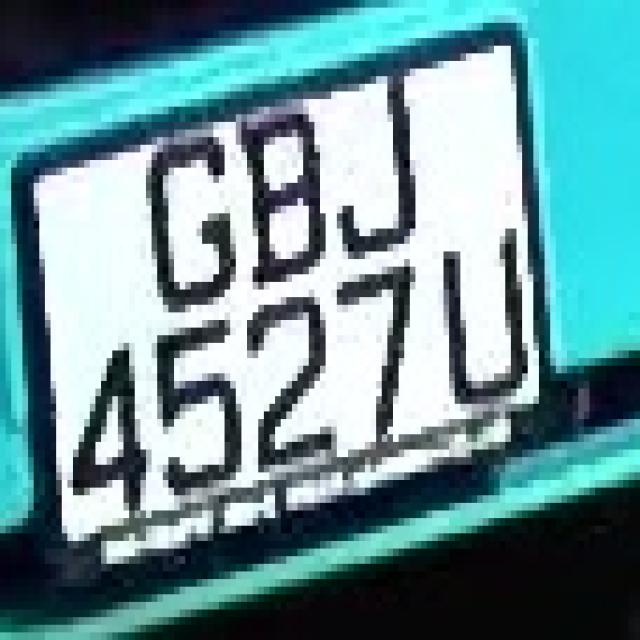2: (230, 266, 343, 510)
4: (39, 335, 163, 549)
5: (152, 297, 252, 511)
7: (326, 237, 416, 472)
B: (224, 84, 337, 297)
G: (129, 99, 242, 328)
J: (320, 53, 444, 267)
U: (438, 228, 539, 412)
